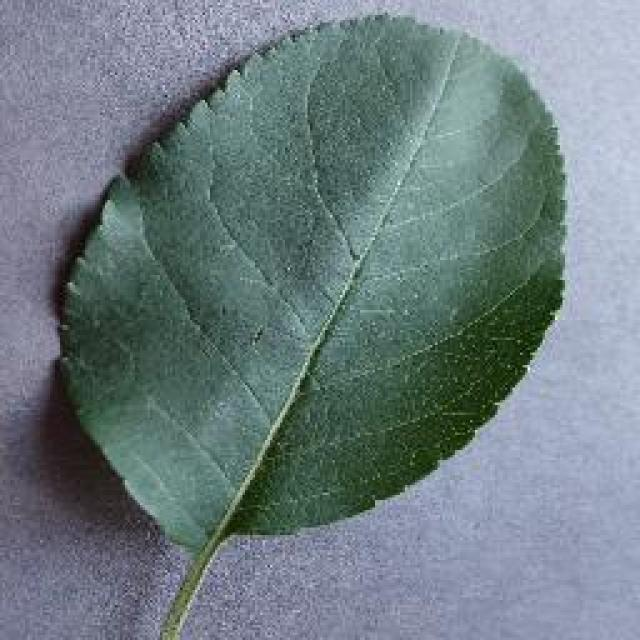Apple___healthy: (55, 2, 583, 544)
